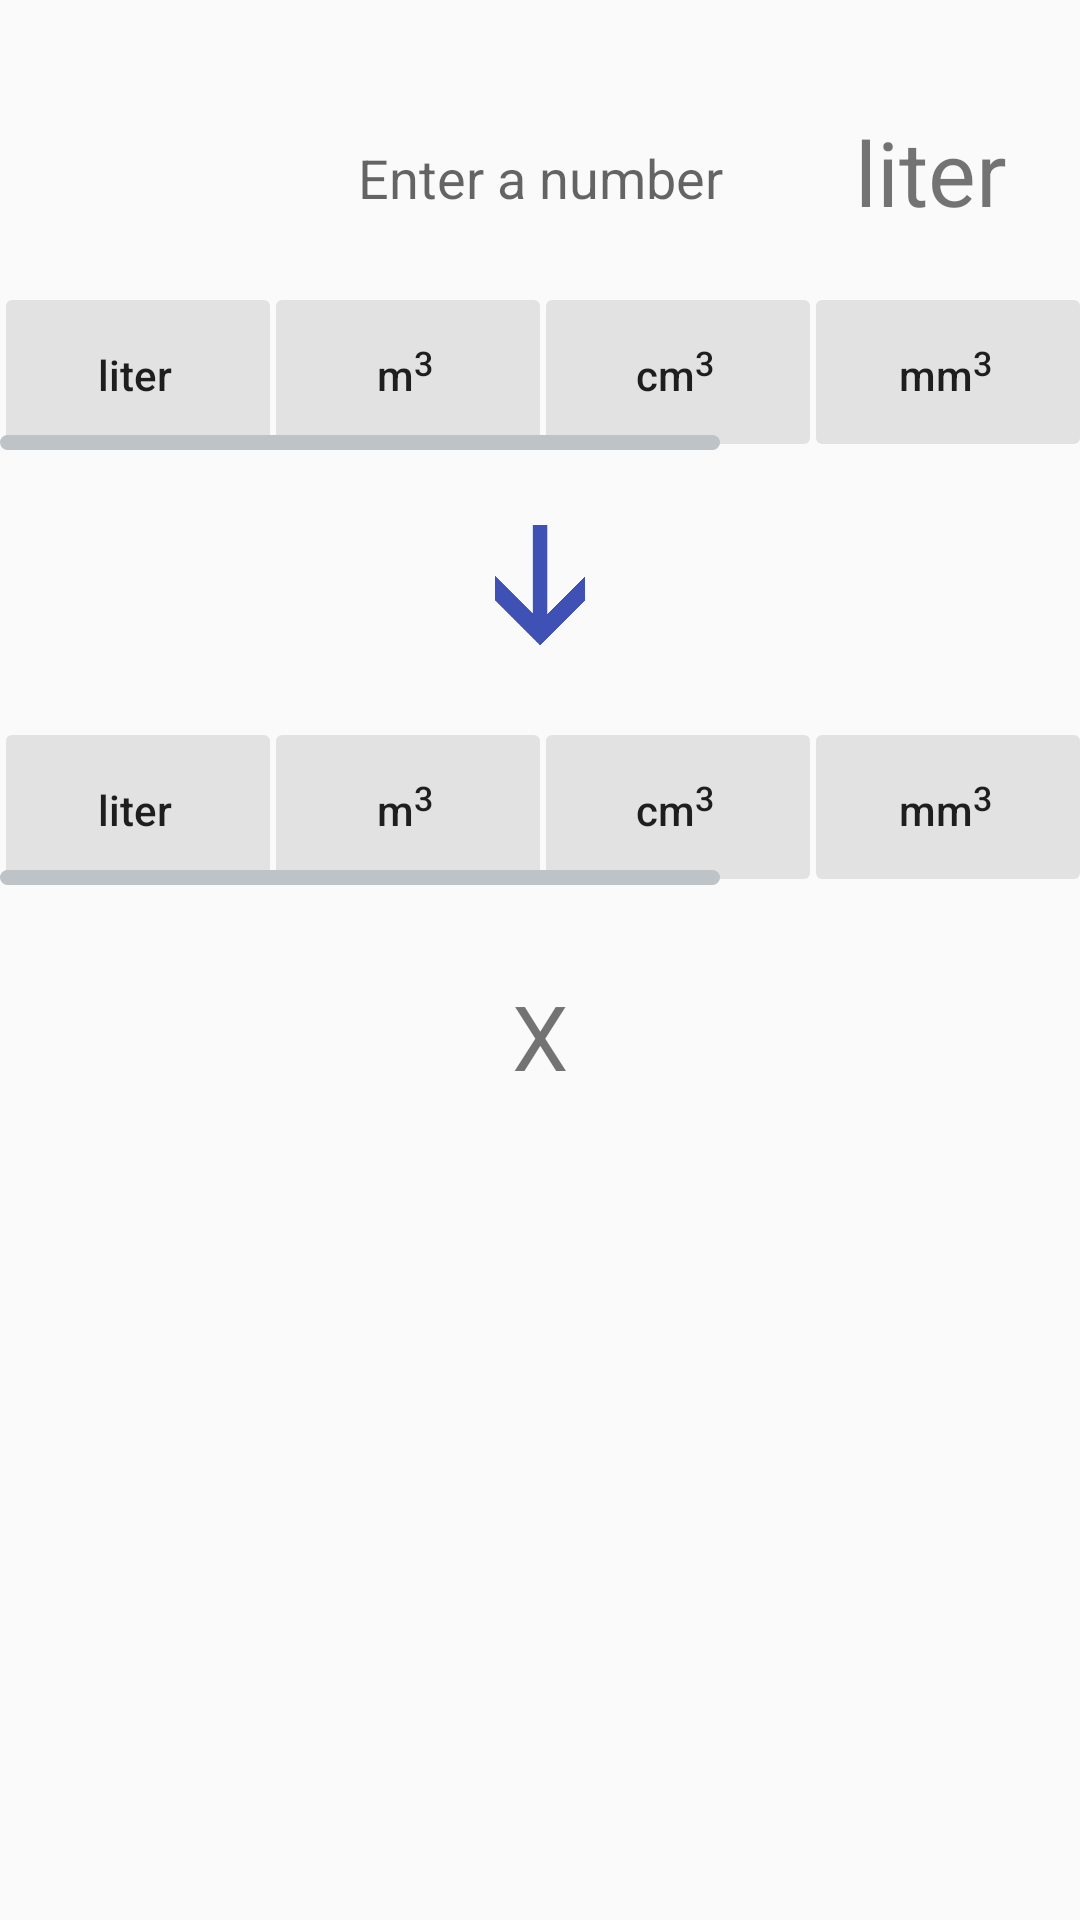

Locate icon controls on the screen. Image size 1080×1920, boxes as (x1=x1, y1=y1, x2=x2, y2=y2).
arrow: (x1=495, y1=525, x2=585, y2=645)
